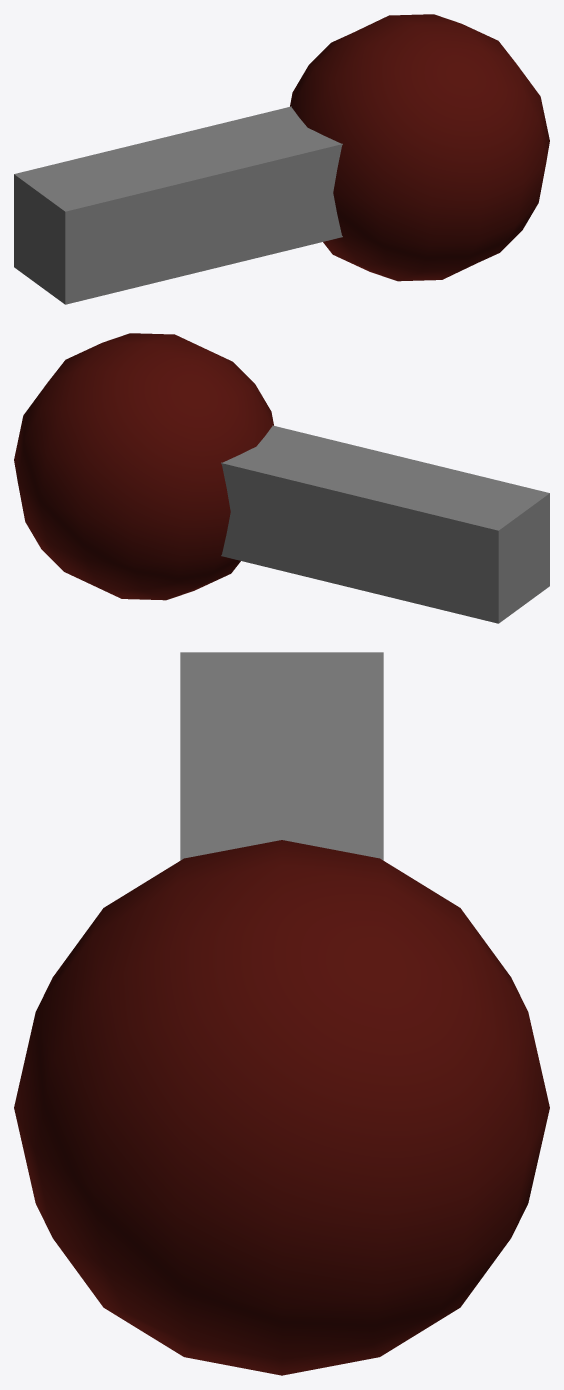
File: SM_Lever_a01.fbx
3 views of the same model, one above another, from view 1: azimuth 30°, elevation 25°; view 2: azimuth 150°, elevation 25°; view 3: azimuth 270°, elevation 25° (orthographic). The views are drawn at different scales.
Visible parts, largest first — view 1: SM_Lever_a01; view 2: SM_Lever_a01; view 3: SM_Lever_a01.
Boxes of the visible parts, x1,y1,x2,y2 form: SM_Lever_a01: (14,14,549,304); SM_Lever_a01: (14,333,549,623); SM_Lever_a01: (14,652,549,1375).
Bounding box in the file's own units: 55.45 × 26.35 × 26.35.
